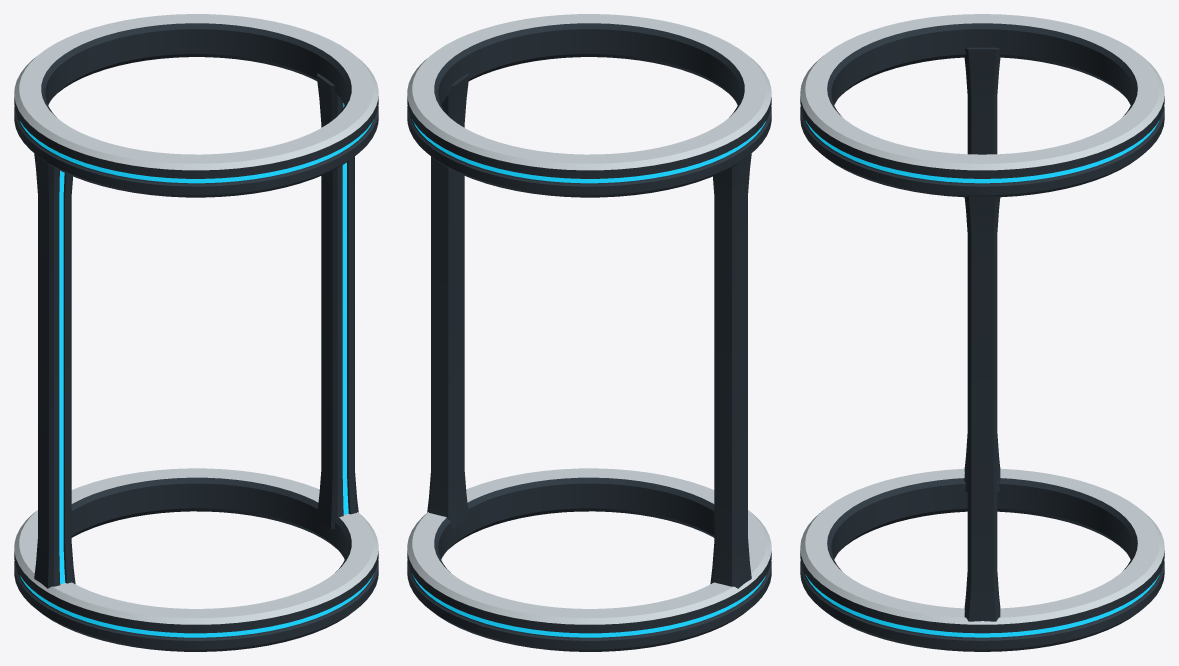
The model's file is memory-stasis-frame-clean-v1.glb.
3 views of the same model, side by side, from view 1: azimuth 30°, elevation 25°; view 2: azimuth 150°, elevation 25°; view 3: azimuth 270°, elevation 25° (orthographic).
Parts seen in each view (by area): view 1: MemoryStasisFrame; view 2: MemoryStasisFrame; view 3: MemoryStasisFrame.
Part boxes in pixels (x1,y1,x2,y2): MemoryStasisFrame: [14, 14, 378, 651]; MemoryStasisFrame: [407, 14, 771, 651]; MemoryStasisFrame: [800, 14, 1164, 651].
Size of the model in its own units: 1.76 by 2.6 by 1.76.
